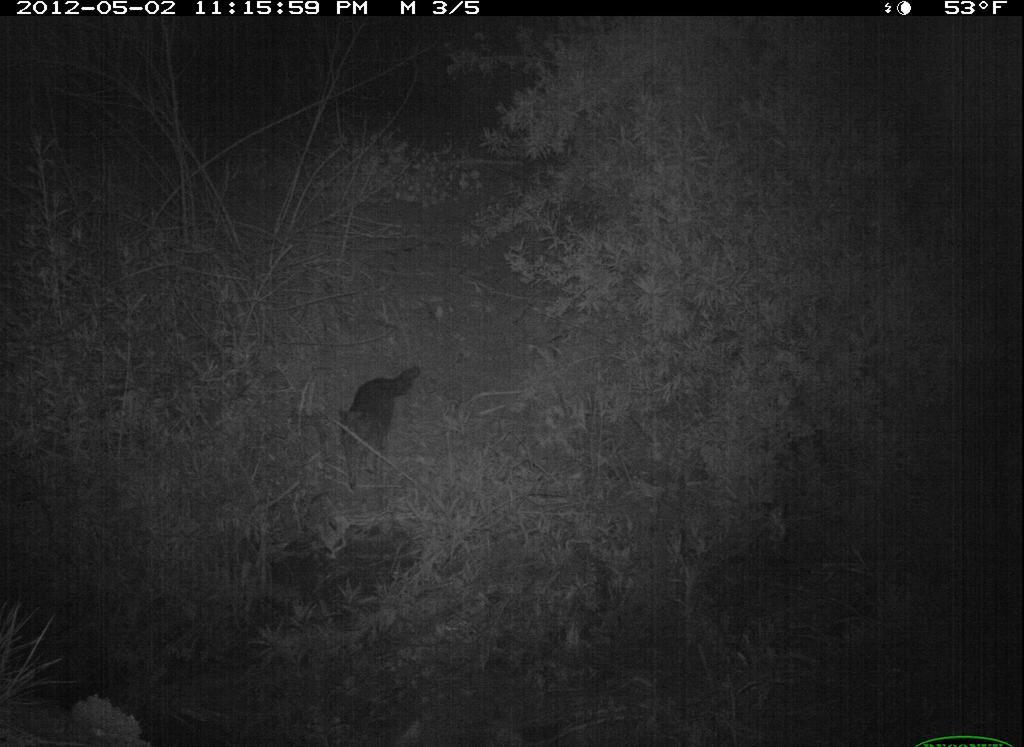cat: (333, 363, 427, 502)
